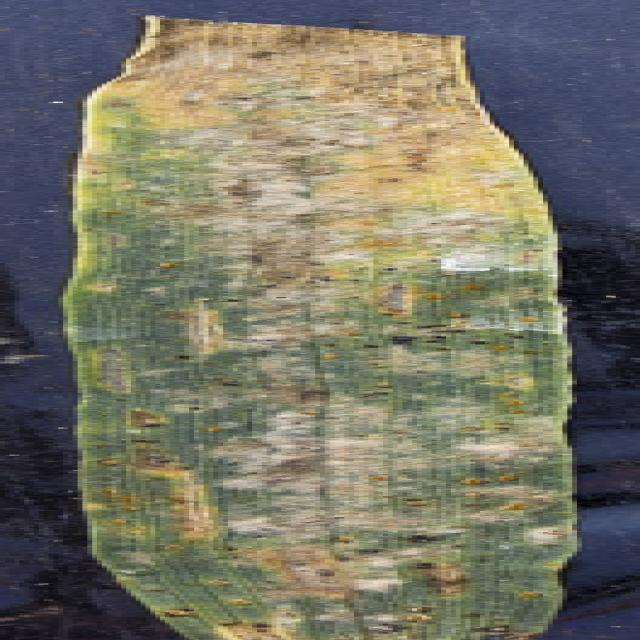wheat-powdery-mildew: (60, 16, 582, 640)
